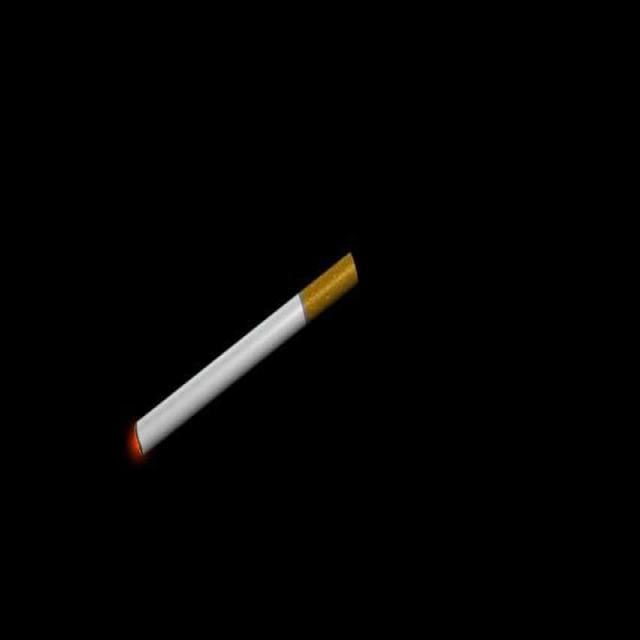Smooking: (83, 226, 380, 518)
